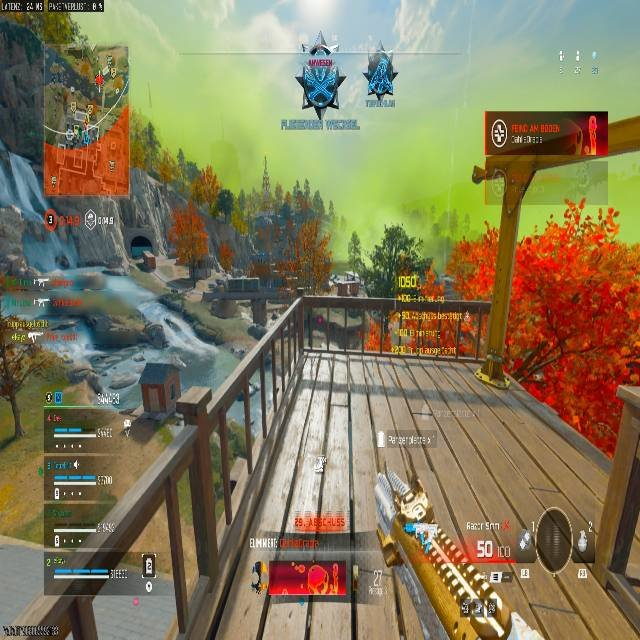player: (377, 464, 580, 639), (252, 462, 442, 601), (296, 39, 340, 124), (364, 51, 396, 103)
